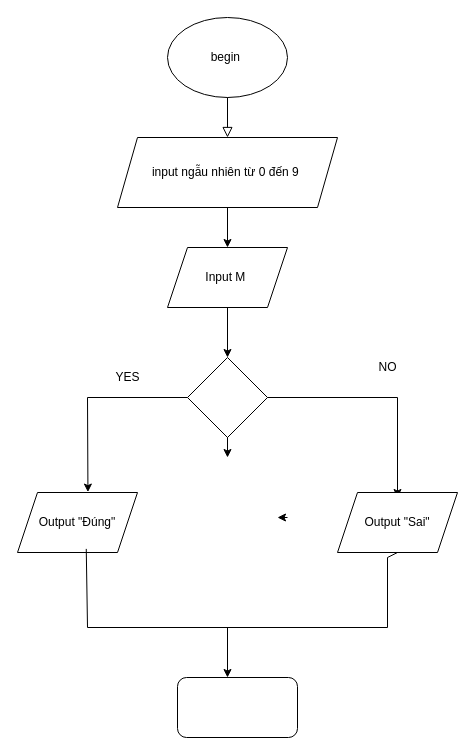
The diagram is 475 pixels wide and 755 high, and some of its shapes have lost their labels. The shapes that lost their labels are listed below. From the top down, each one's centre as x and y in pixels, then its label:
point 227,397: N==M
point 237,707: End
